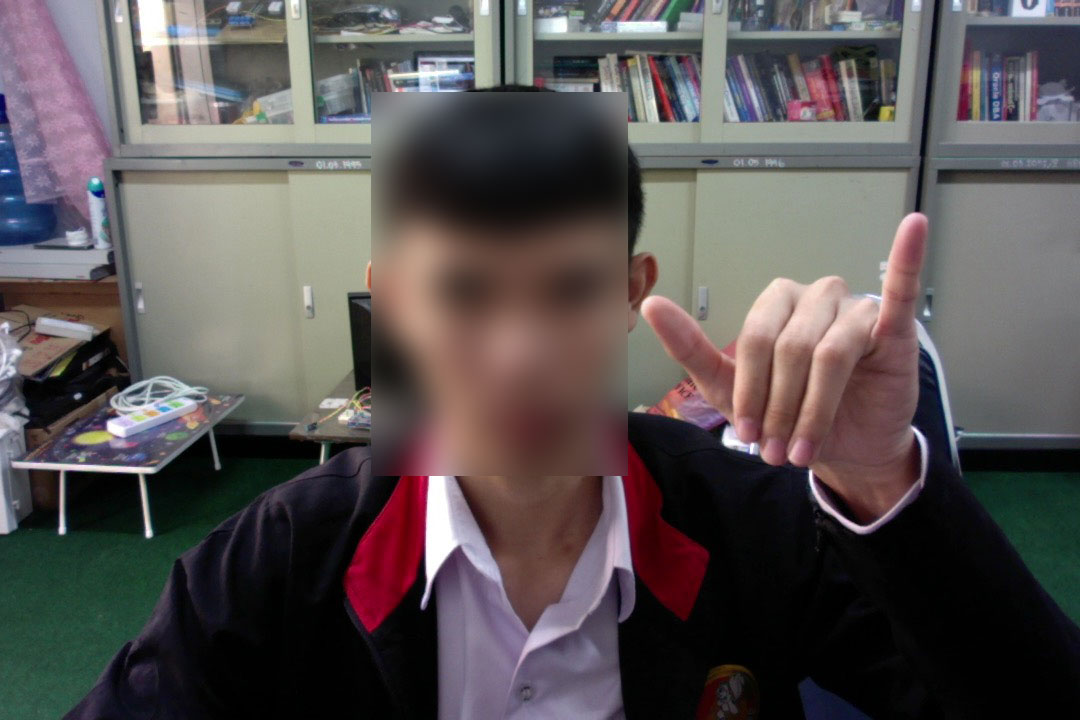yor: (634, 206, 942, 498)
